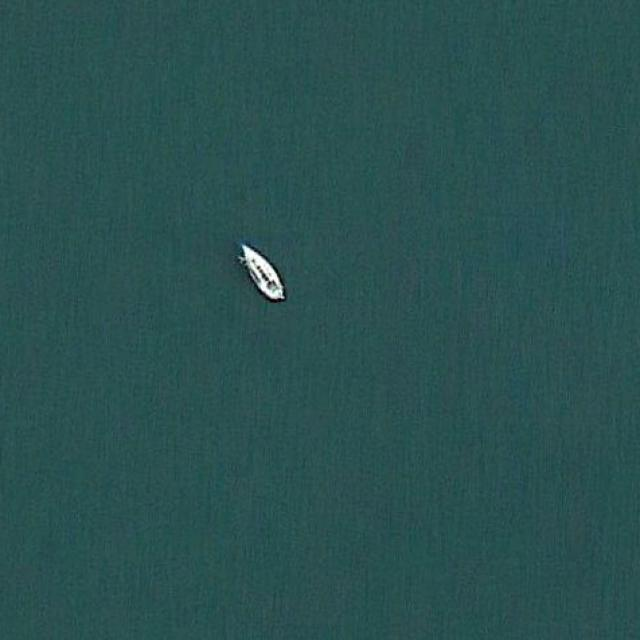ship: (238, 238, 286, 300)
